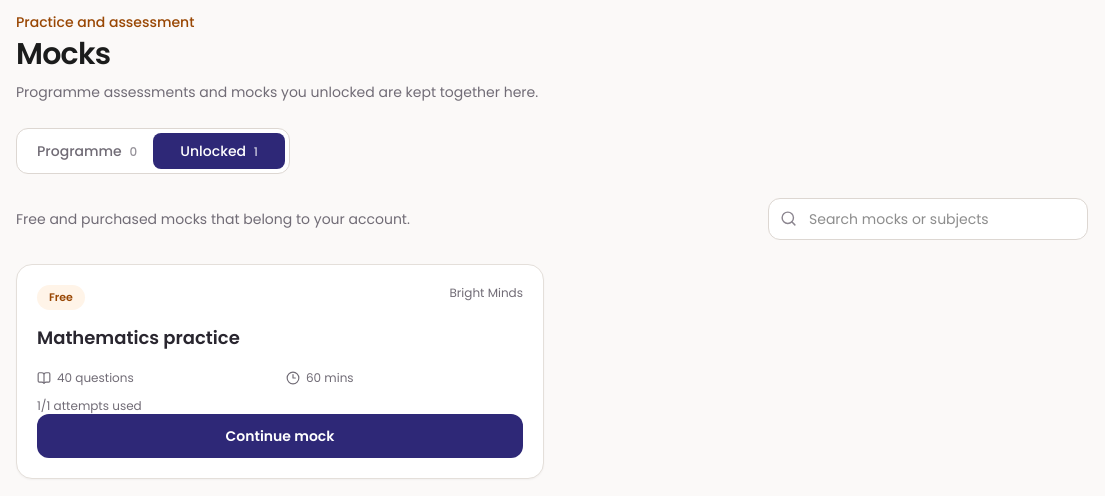
StudentMocksClient › distinguishes an empty library from a search with no matches
In the field with placeholder "Search mocks or subjects": (928, 219) [768,198,1088,240], type "Physics"
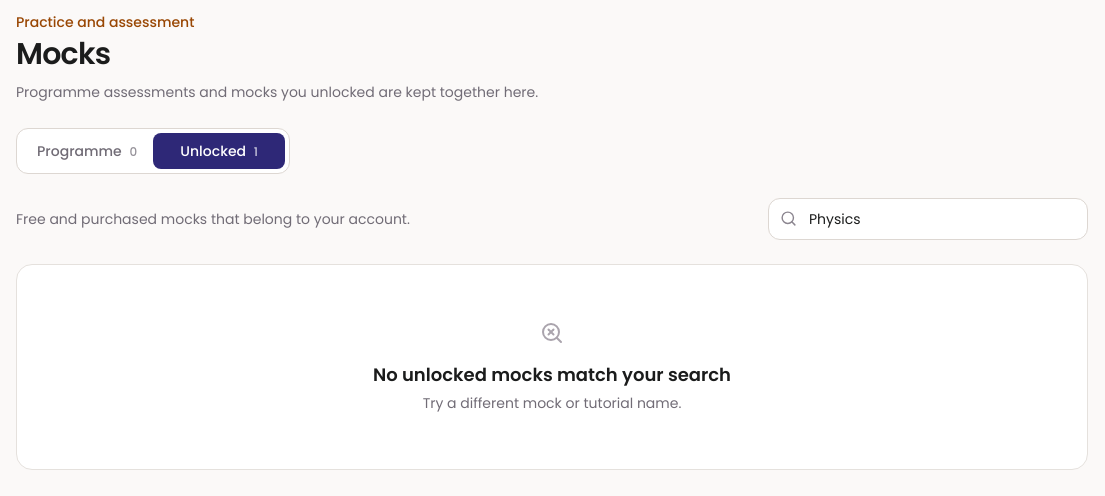
Now the heading "No unlocked mocks match your search" is shown, box [373,362,731,387]
Now the text "Try a different mock or tutorial name." is shown, box [423,393,681,413]
